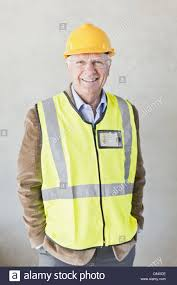Person_wearing_helmet: (58, 18, 125, 68)
